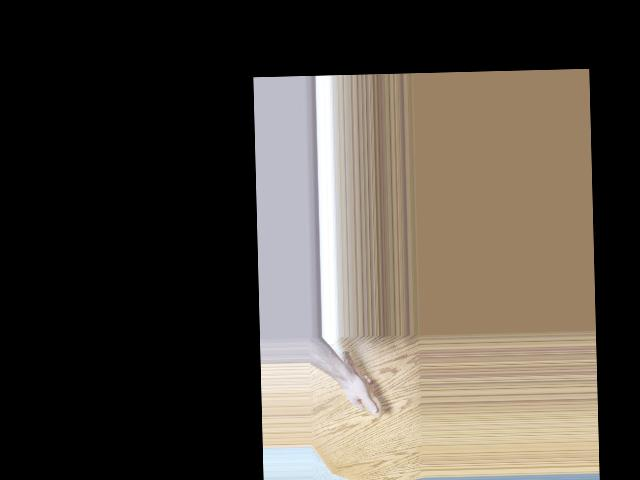sweet_potato: (340, 338, 383, 420)
